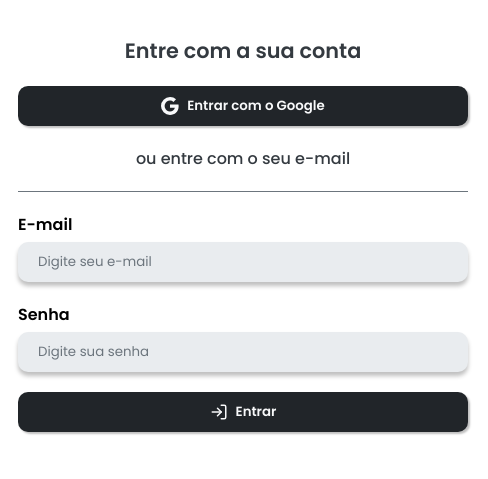
Login › should show erros when trying to submit without filling all required fields
Click the button "Entrar".
click(243, 412)  # box [18,392,468,432]
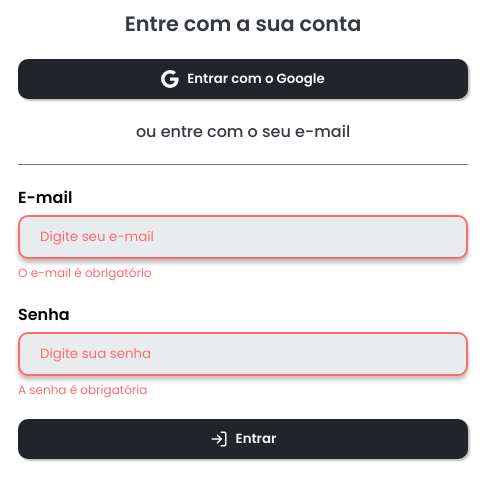
Expected: the text "O e-mail é obrigatório" is shown, [18,264,152,280]
Expected: the text "A senha é obrigatória" is shown, [18,380,147,398]
